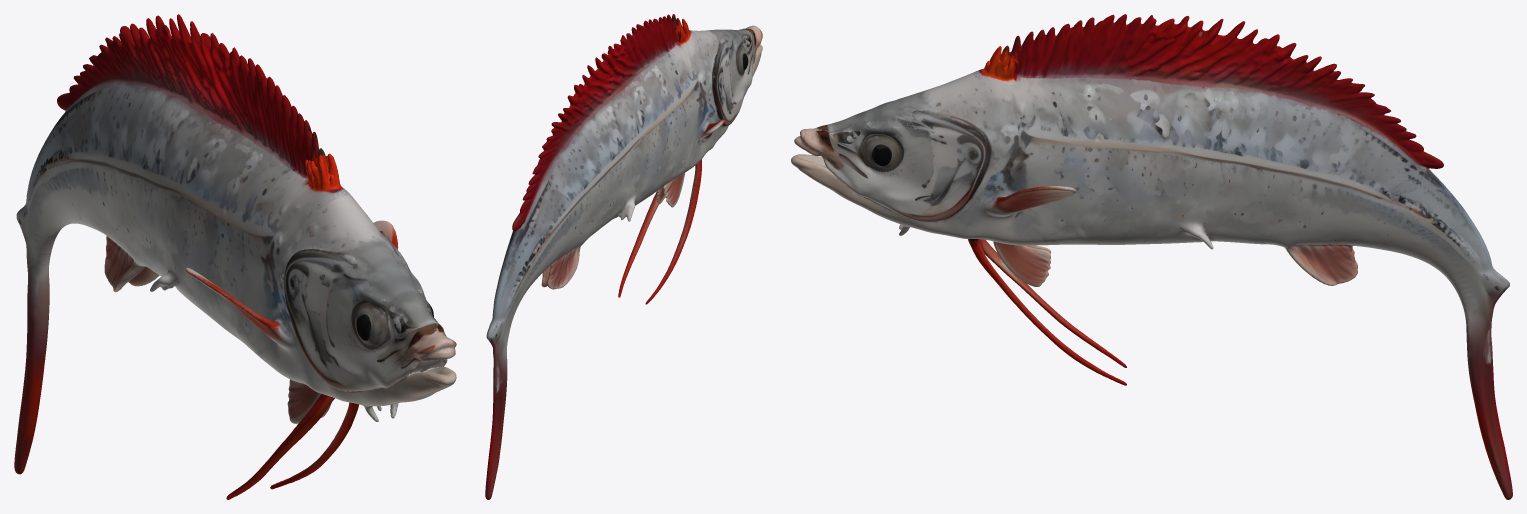
File: oarfish_r2.glb
3 renders of one model, left to right at view 1: azimuth 30°, elevation 25°; view 2: azimuth 150°, elevation 25°; view 3: azimuth 270°, elevation 25°, orthographic. The views are drawn at different scales.
Visible parts, largest first — view 1: tripo_node_1a289ee9-3725-4f9c-b7b5-65a9aebb03b2; view 2: tripo_node_1a289ee9-3725-4f9c-b7b5-65a9aebb03b2; view 3: tripo_node_1a289ee9-3725-4f9c-b7b5-65a9aebb03b2.
Boxes of the visible parts, <box> form: tripo_node_1a289ee9-3725-4f9c-b7b5-65a9aebb03b2: <box>14,14,456,499</box>; tripo_node_1a289ee9-3725-4f9c-b7b5-65a9aebb03b2: <box>485,14,762,499</box>; tripo_node_1a289ee9-3725-4f9c-b7b5-65a9aebb03b2: <box>791,14,1512,499</box>.
Size of the model in its own units: 0.268 by 0.7424 by 1.
Materials: 1 (1 with a texture image).
